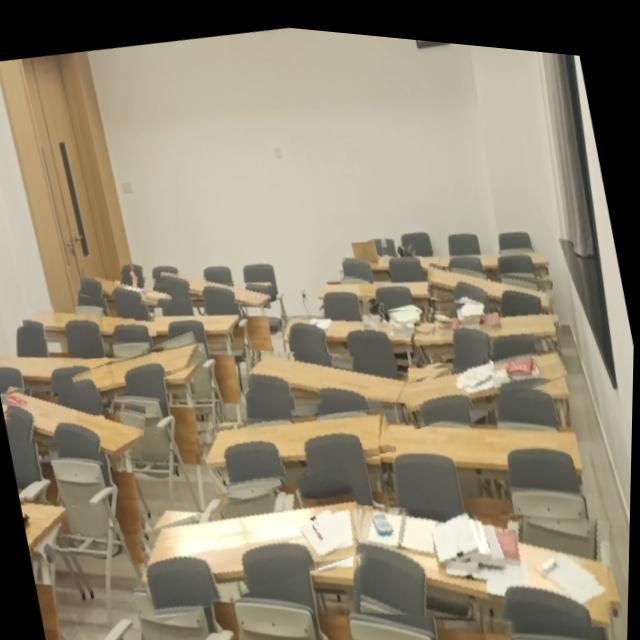Non-empty: (363, 498, 614, 614), (142, 492, 362, 574), (406, 338, 569, 398), (8, 388, 144, 454), (415, 298, 560, 335), (288, 302, 420, 334), (82, 270, 174, 303), (344, 236, 444, 262), (26, 501, 67, 549)
empty: (210, 403, 385, 460), (251, 344, 409, 394), (81, 342, 200, 391), (429, 256, 553, 303), (162, 269, 272, 302), (24, 306, 156, 333)
